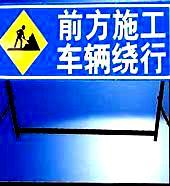sign: (1, 2, 168, 81)
